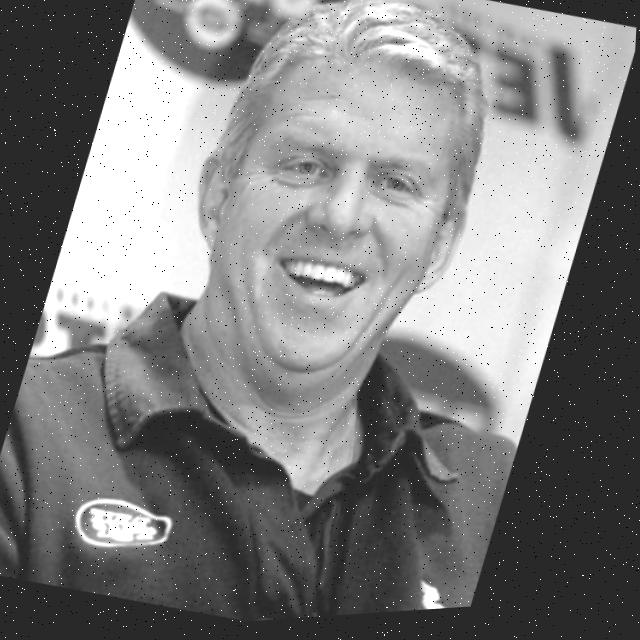face: (156, 34, 518, 404)
